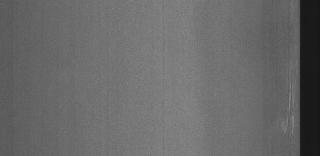silk spot: (279, 7, 299, 141)
